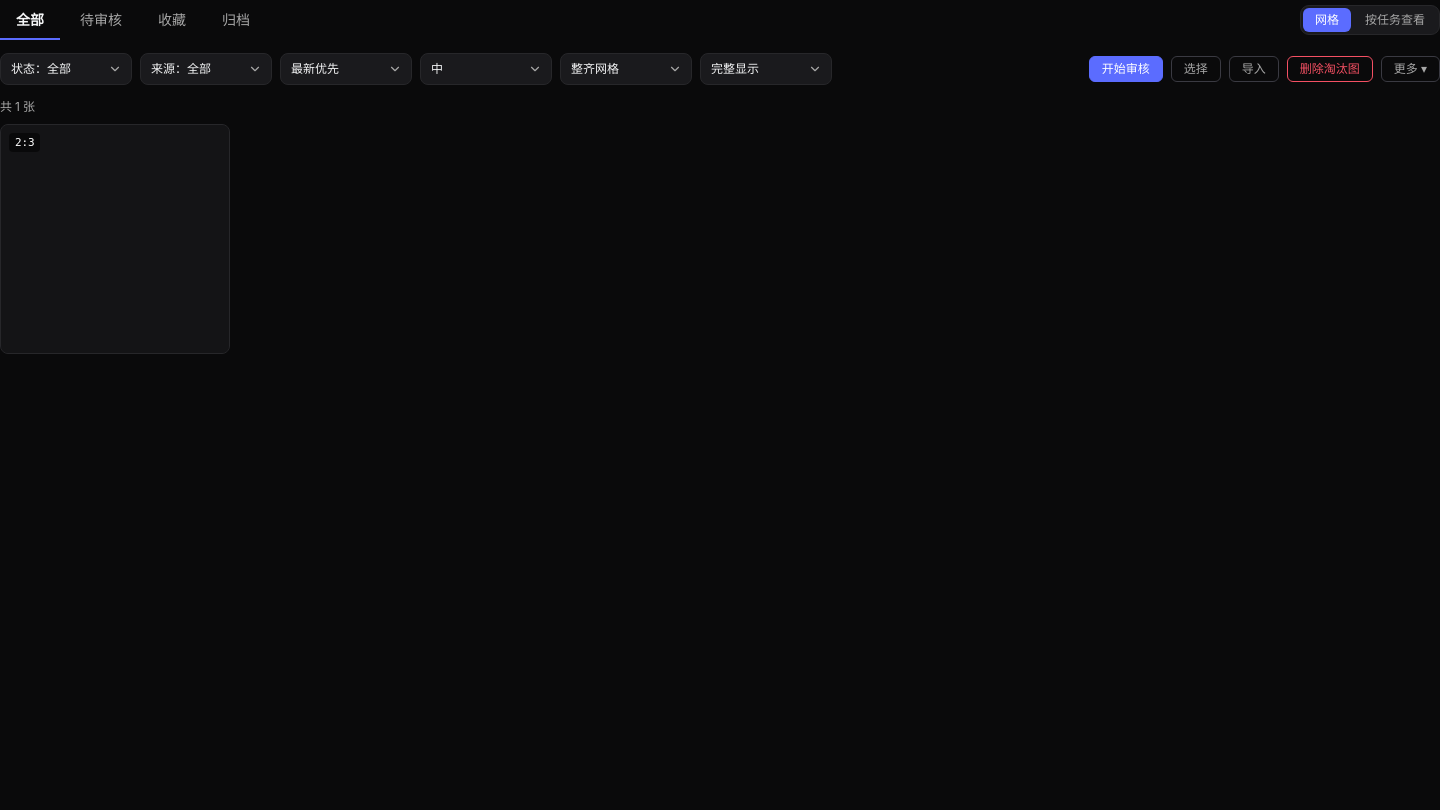
Scenario: GalleryPage 图库 › 有图片时显示数量，点击卡片打开详情抽屉
Check: the text "共 1 张" is shown, box top-left (0, 99), bottom-right (35, 114)
Step 1. Click the element with class "gal-card" → (115, 239), box top-left (0, 124), bottom-right (230, 354)
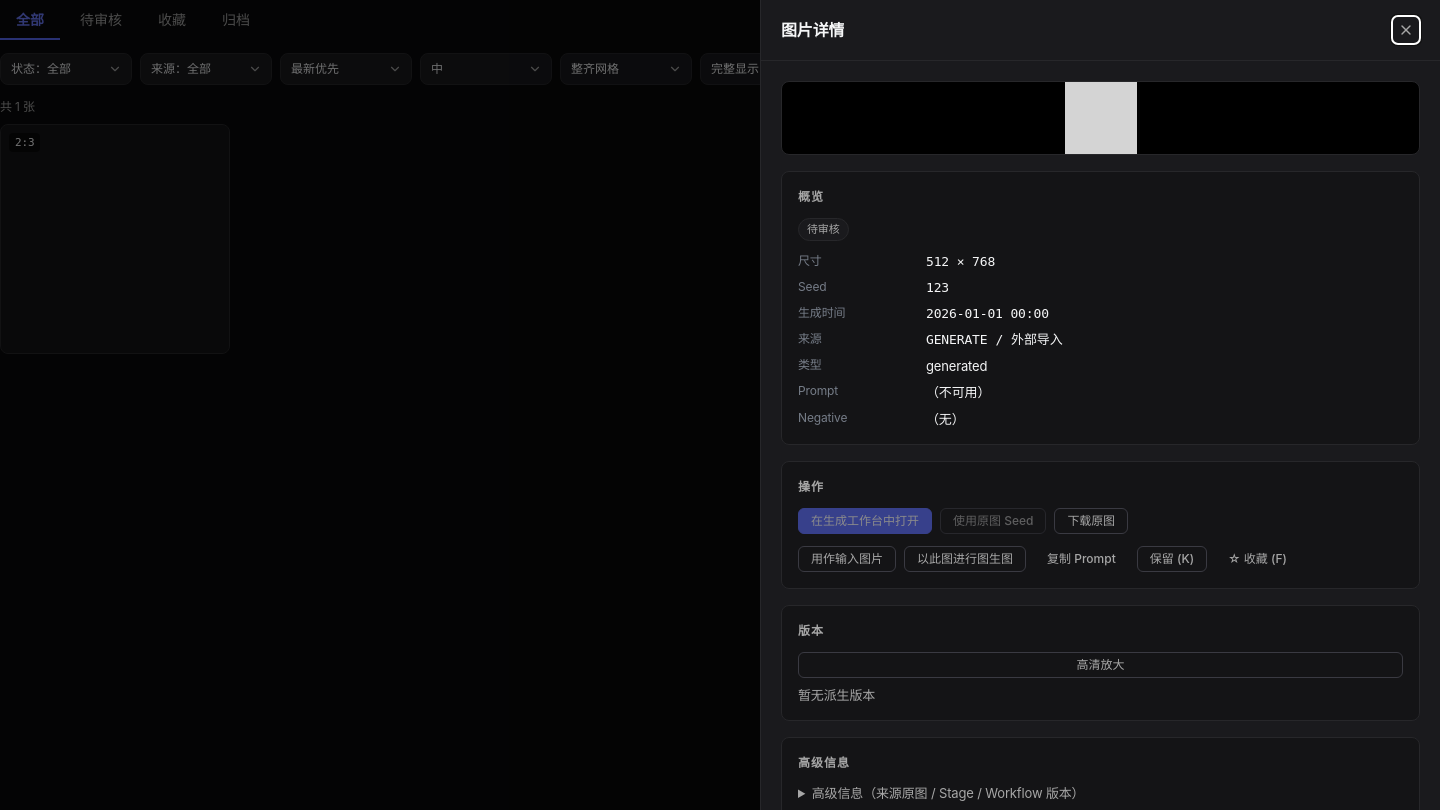
Check: the heading "图片详情" is shown, box top-left (781, 19), bottom-right (844, 41)
Check: the button "保留 (K)" is shown, box top-left (1137, 546), bottom-right (1207, 572)
Check: the button "☆ 收藏 (F)" is shown, box top-left (1215, 546), bottom-right (1300, 572)
